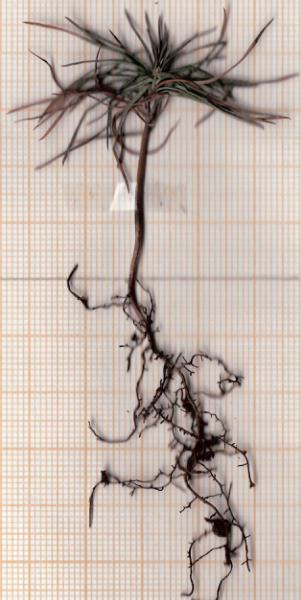flower: (0, 2, 301, 186)
root: (55, 260, 268, 600)
stem: (123, 125, 158, 288)
